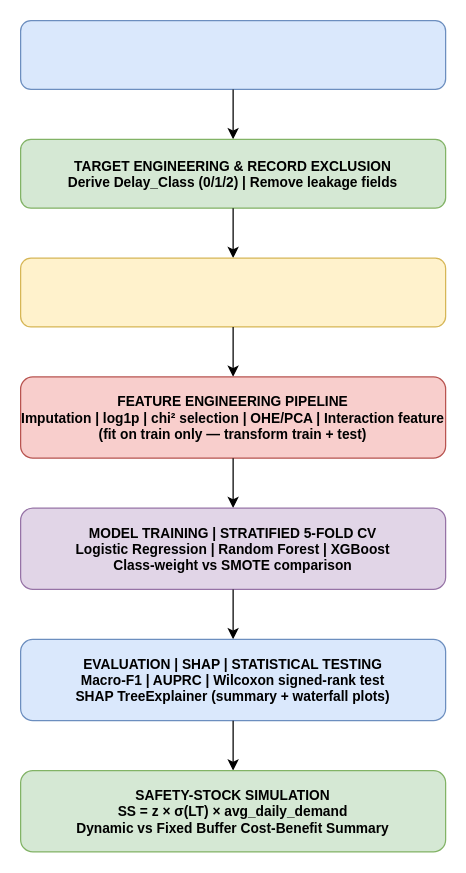
Some shapes in this 466 by 873 pixel diagram are drawn without their labels. The shapes that lost their labels are listed below. From the top down, each one's centre as x and y in pixels, then its label:
At pixel 232 54: "RAW DATA INGESTION USAID SCMS CSV (10,324 rows, 33 columns)".
At pixel 232 292: "STRATIFIED TRAIN-TEST SPLIT 80/20 | stratify=y | seed=42".
